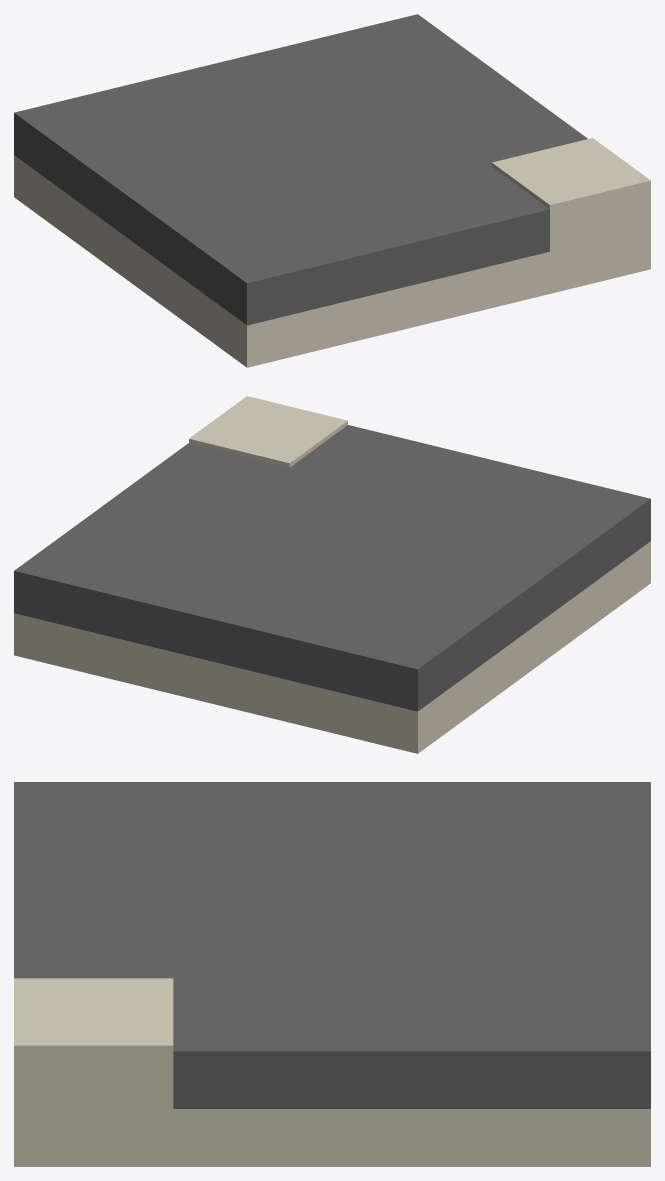
The model's file is tile226.fbx.
The picture shows the model from 3 angles, top to bottom: view 1: azimuth 30°, elevation 25°; view 2: azimuth 150°, elevation 25°; view 3: azimuth 270°, elevation 25°; orthographic projection. The views are drawn at different scales.
Parts seen in each view (by area): view 1: tile226; view 2: tile226; view 3: tile226.
Boxes of the visible parts, <box> form: tile226: <box>14,14,650,367</box>; tile226: <box>14,396,650,753</box>; tile226: <box>14,782,650,1166</box>.
Size of the model in its own units: 10 by 2.1 by 10.
